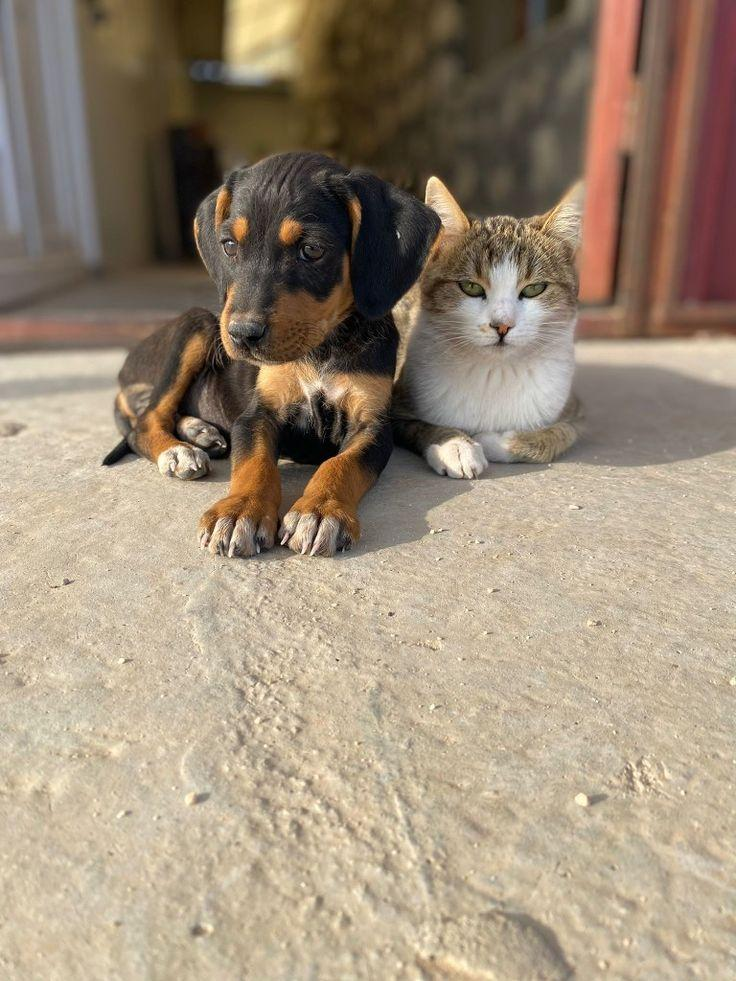kedo: (396, 162, 600, 490)
